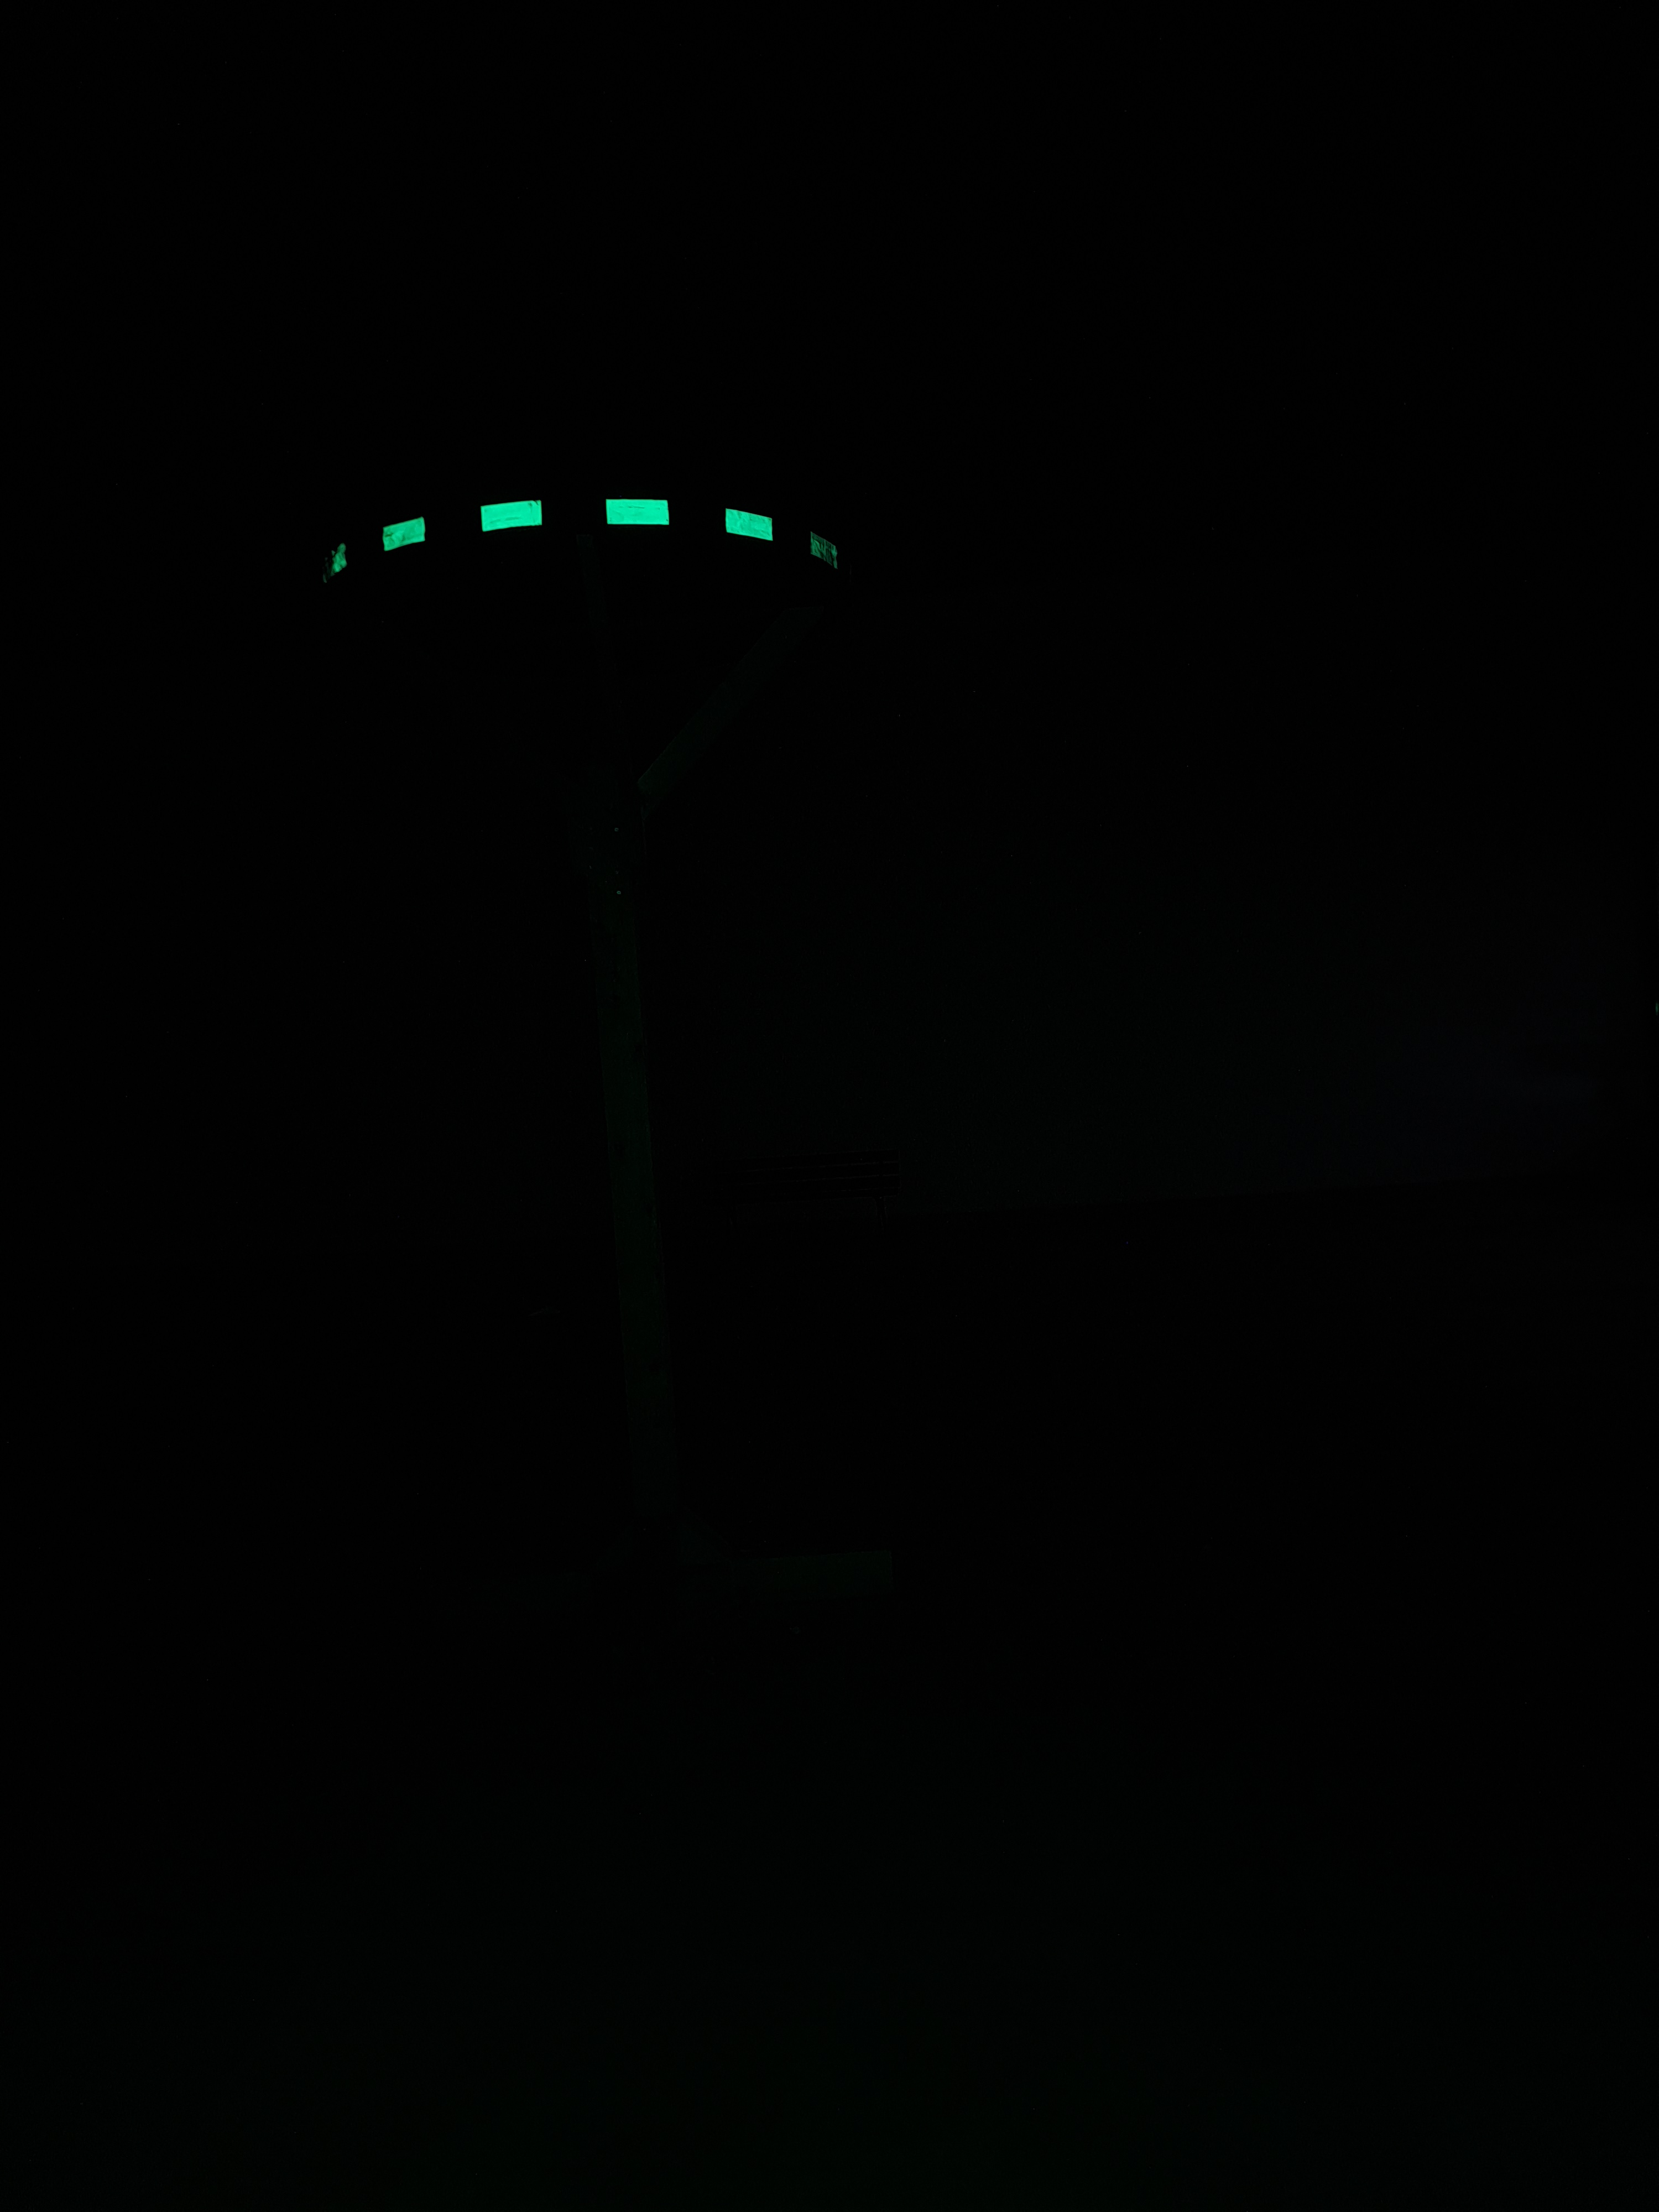hoop: (305, 484, 849, 601)
